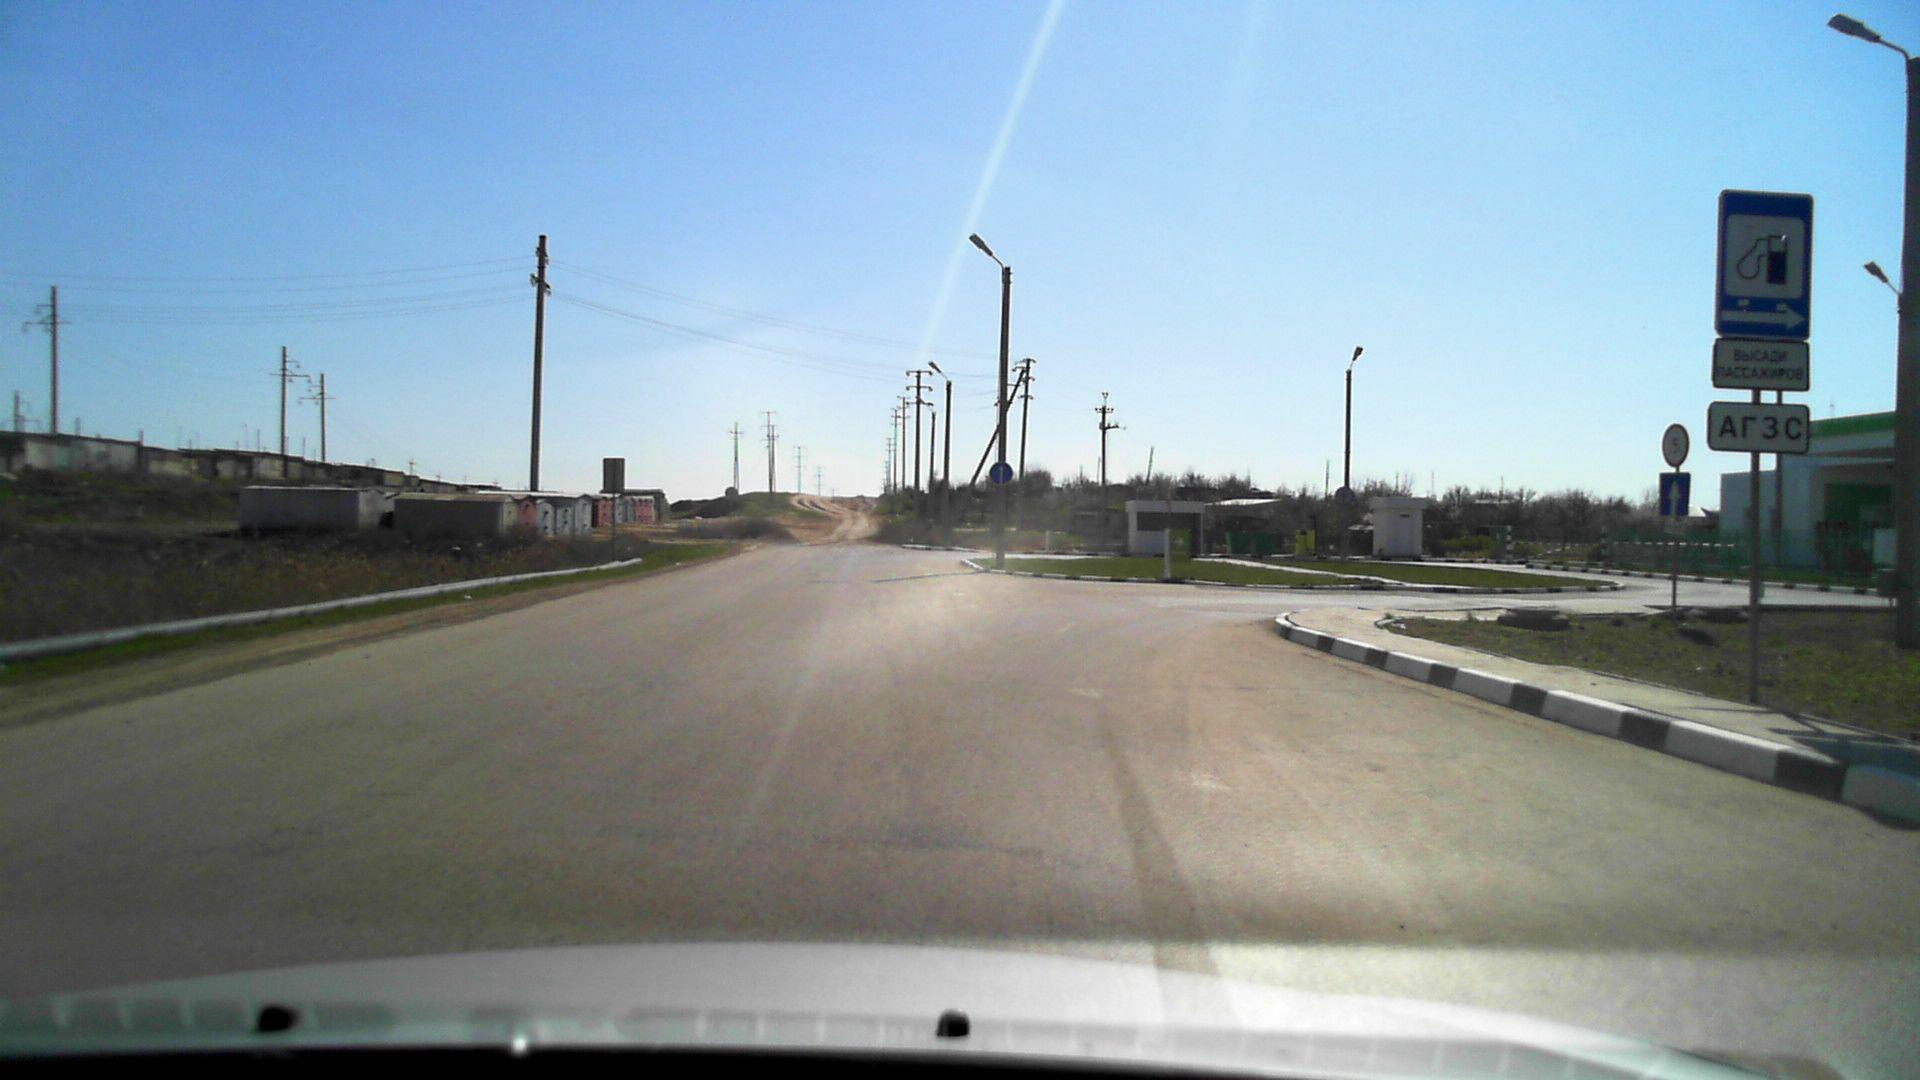3_24: (1658, 423, 1689, 467)
4_1_1: (990, 462, 1015, 488)
5_5: (1660, 475, 1689, 514)
7_3: (1721, 189, 1808, 338)
